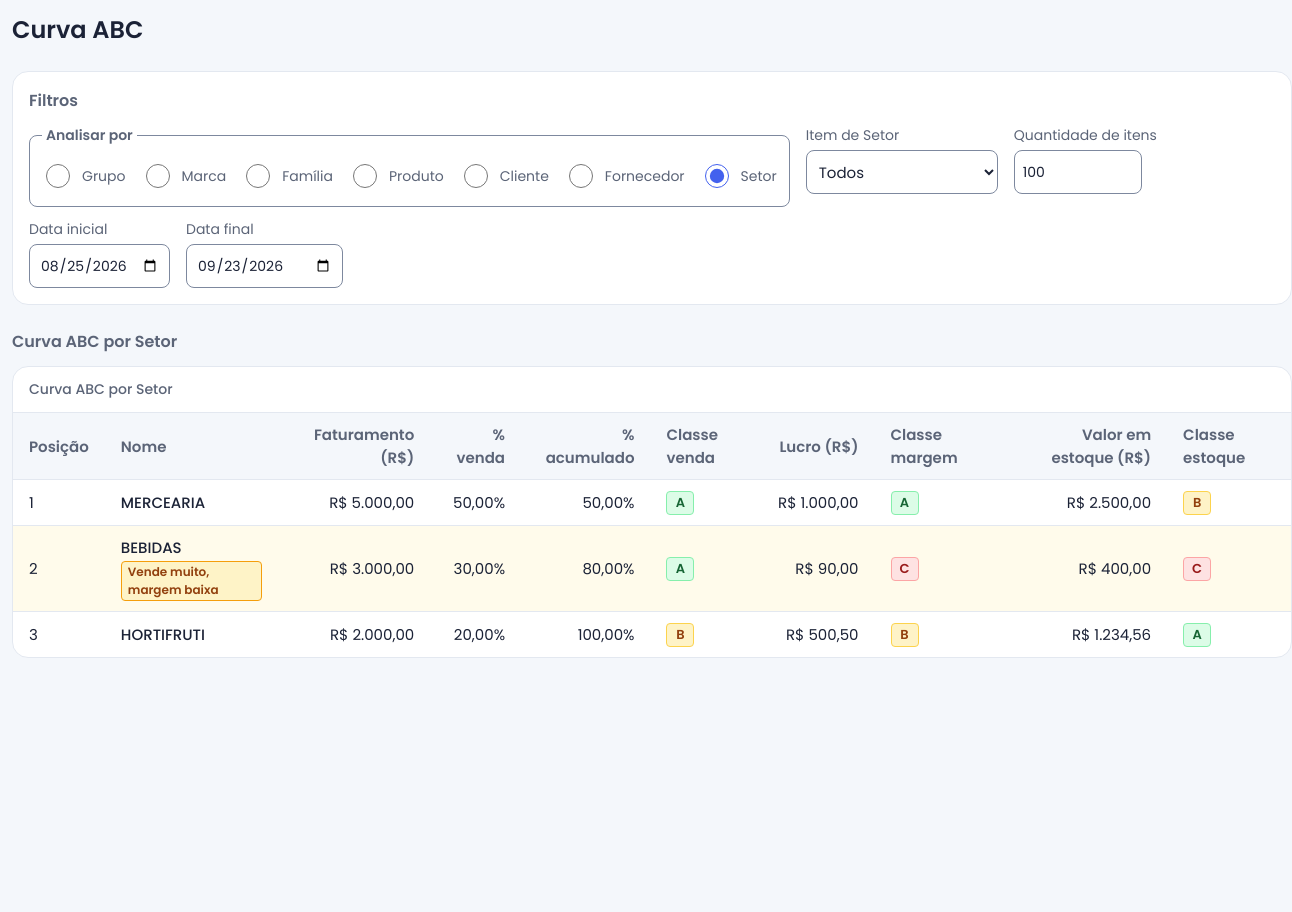
Test: CurvaAbcPage › para cliente omite as colunas de estoque e mostra "Venda consumidor" como uma linha normal
Expected: the table is shown, 13,367 -> 1291,657
Click the radio button labelled "Cliente" at [476, 176], box 464,164 -> 488,188
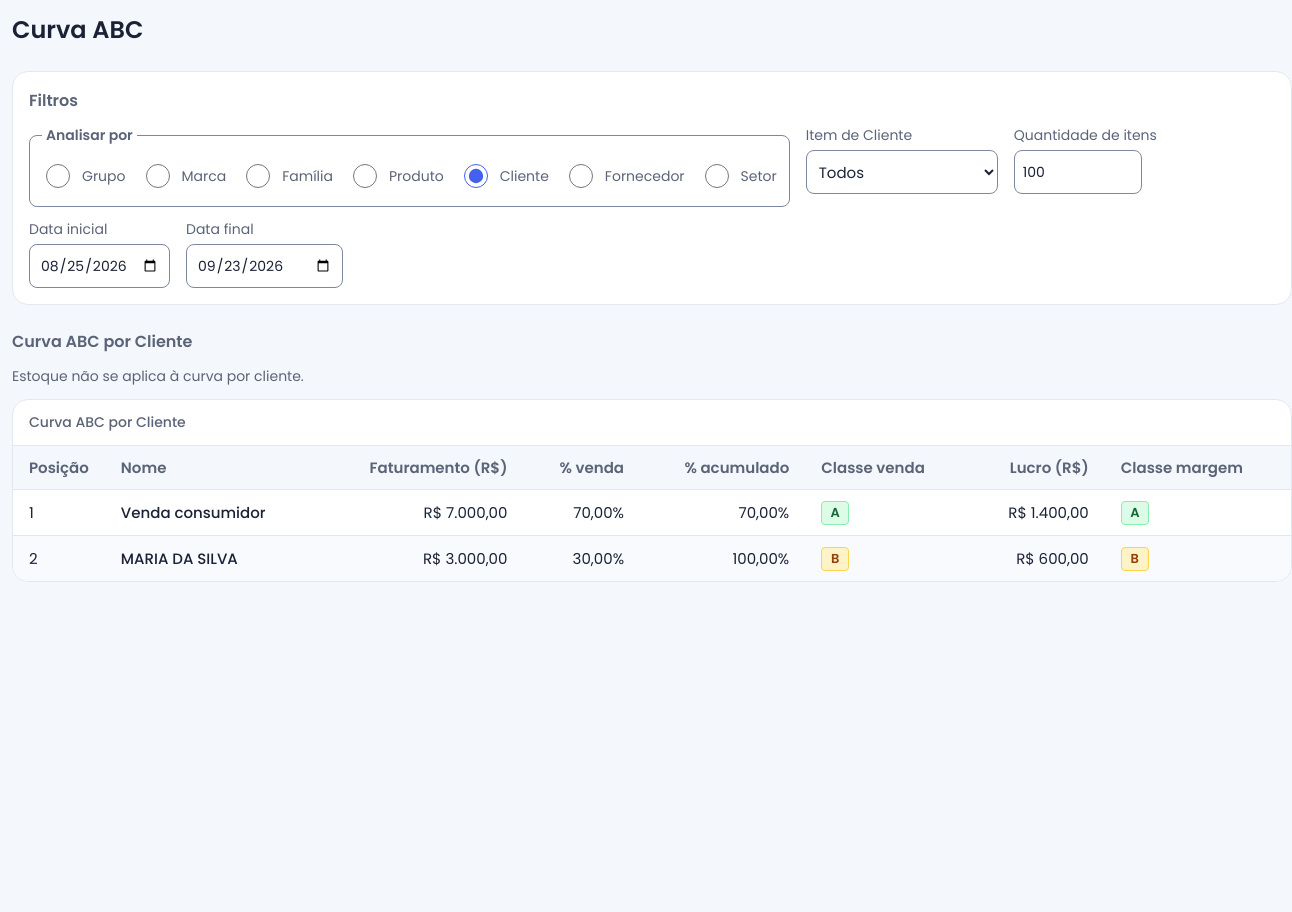
Expected: the column heading "Venda consumidor" is shown, 105,490 -> 318,536
